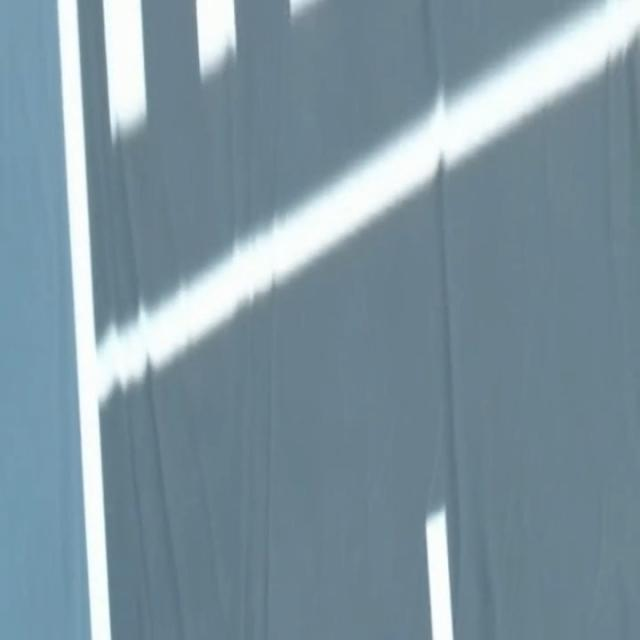center: (426, 507, 453, 639)
left: (58, 0, 110, 639)
